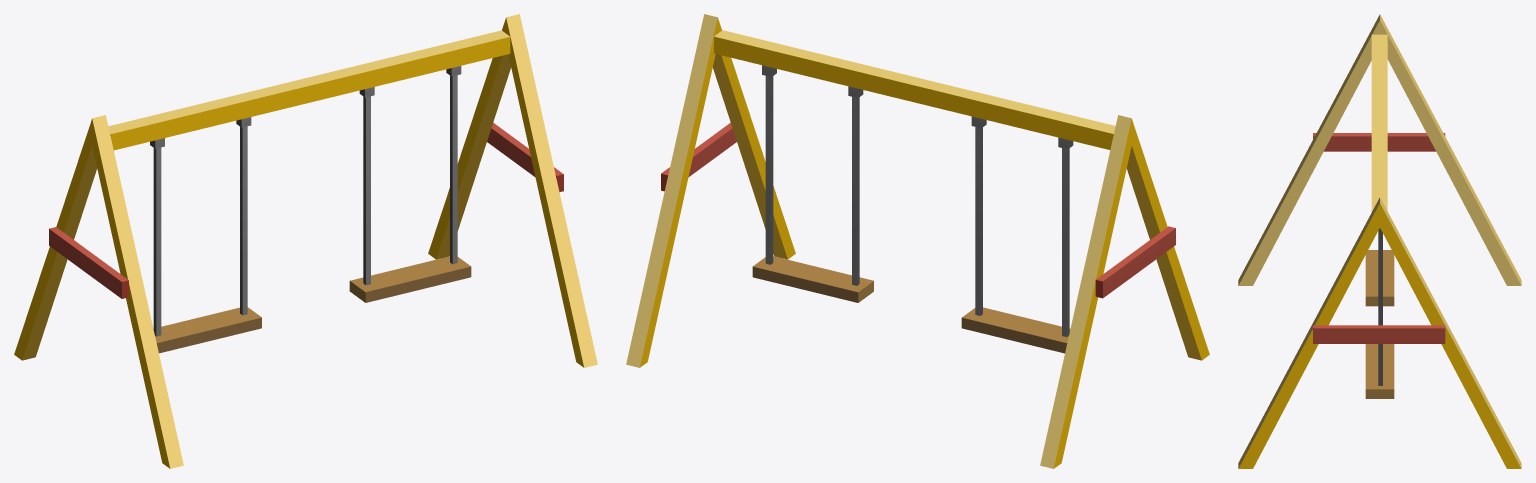
The model's file is SM_SwingSet_01.fbx.
3 renders of one model, left to right at view 1: azimuth 30°, elevation 25°; view 2: azimuth 150°, elevation 25°; view 3: azimuth 270°, elevation 25°, orthographic. The views are drawn at different scales.
Visible parts, largest first — view 1: SM_SwingSet_01; view 2: SM_SwingSet_01; view 3: SM_SwingSet_01.
Part boxes in pixels (x1,y1,x2,y2): SM_SwingSet_01: (14, 14, 597, 468); SM_SwingSet_01: (626, 14, 1209, 468); SM_SwingSet_01: (1238, 14, 1521, 468).
Size of the model in its own units: 6.37 by 4.04 by 3.9.
